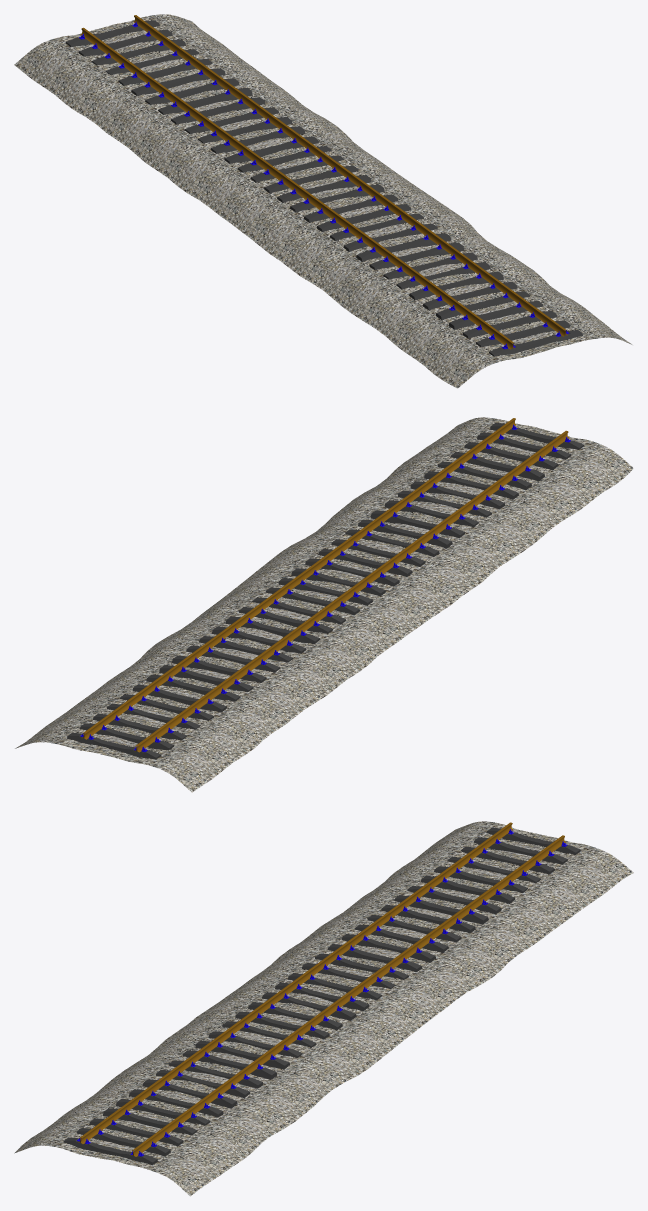
File: Verh.FBX
The picture shows the model from 3 angles, top to bottom: view 1: azimuth 30°, elevation 25°; view 2: azimuth 150°, elevation 25°; view 3: azimuth 330°, elevation 25°; orthographic projection.
Parts seen in each view (by area): view 1: rail30; view 2: rail30; view 3: rail30.
Part boxes in pixels (x1=…): rail30: x1=14, y1=14, x2=632, y2=388; rail30: x1=15, y1=417, x2=633, y2=792; rail30: x1=14, y1=821, x2=633, y2=1196.
Bounding box in the file's own units: 5.53 × 0.7731 × 23.34.
